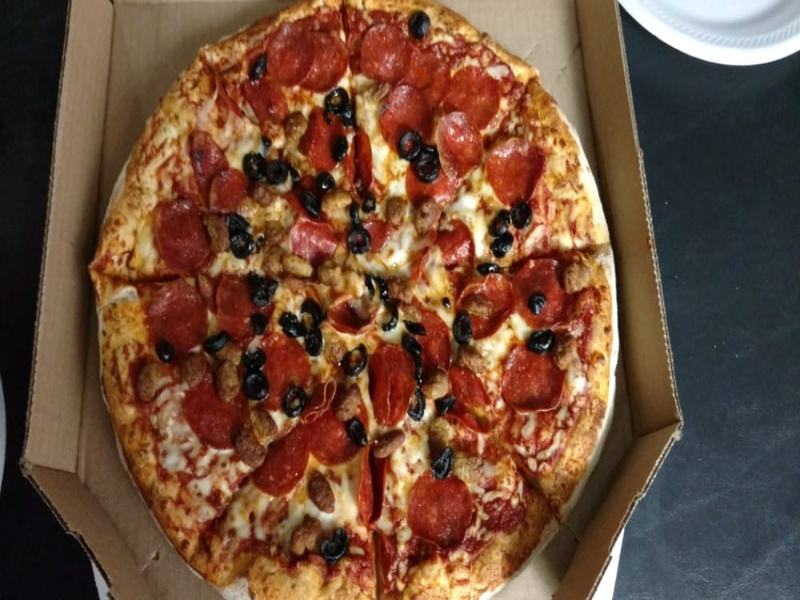olive noir: (236, 143, 295, 190), (219, 217, 271, 262), (337, 217, 382, 256), (238, 275, 288, 310), (316, 87, 362, 125), (147, 336, 184, 371), (390, 125, 424, 160), (278, 386, 315, 418), (414, 148, 446, 184)
pepperonis: (400, 468, 491, 547), (138, 190, 222, 274), (131, 281, 218, 357), (169, 377, 254, 448), (500, 344, 574, 419), (482, 131, 553, 201), (362, 343, 421, 425), (256, 422, 314, 498), (431, 106, 491, 179), (438, 369, 505, 431), (456, 267, 514, 337), (354, 18, 413, 84), (263, 29, 318, 86)
